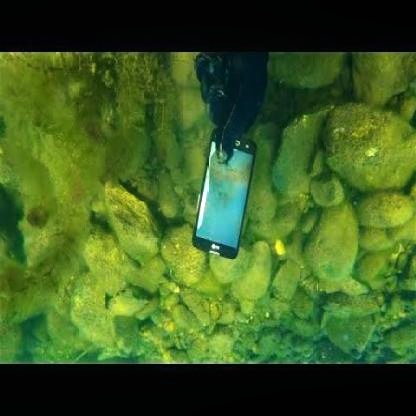cellphone: (192, 129, 256, 259)
